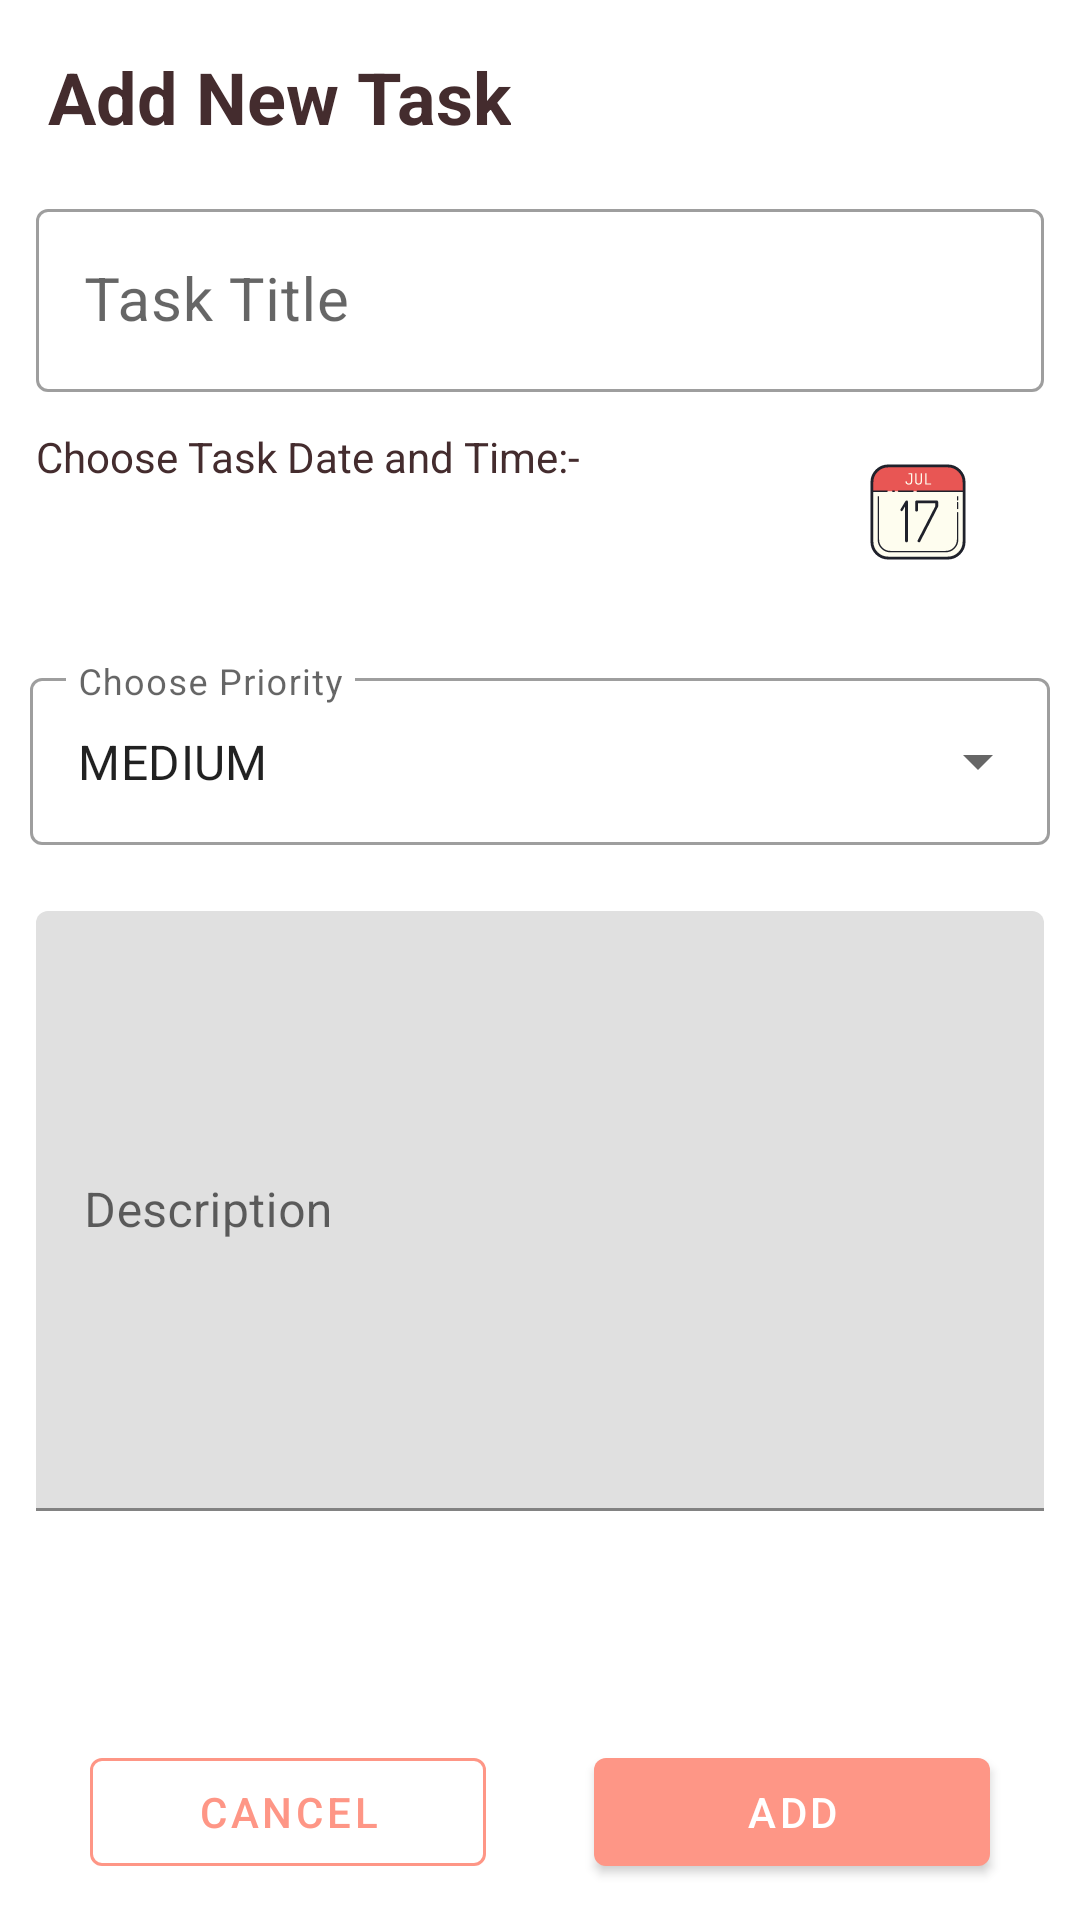

Locate icon controls on the screen. Image size 1080×1920, boxes as (x1, y1, x2, y2).
Date and Time Select: (870, 464, 966, 560)
